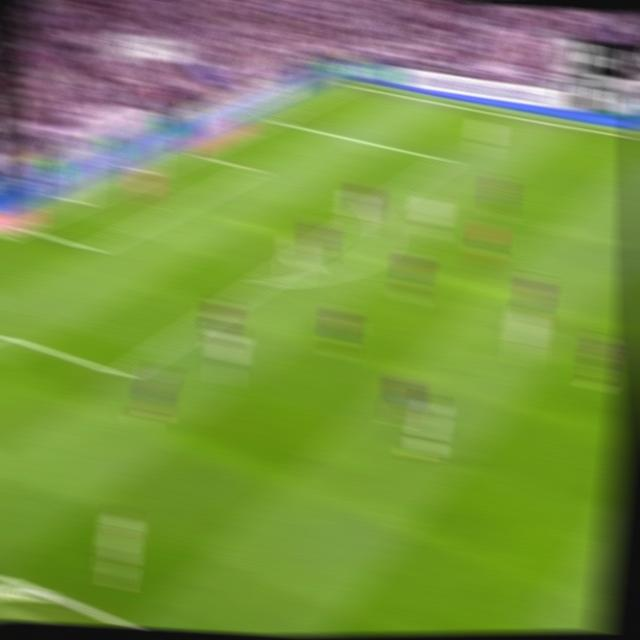bigarea_bottom_inner: (109, 357, 135, 389)
bigarea_top_inner: (437, 149, 456, 168)
bigarea_top_outter: (263, 109, 284, 126)
bottom_arc_area_intersection: (251, 270, 273, 294)
corner: (338, 77, 360, 91)
smallarea_top_inner: (243, 160, 263, 178)
top_arc_area_intersection: (362, 198, 383, 218)
